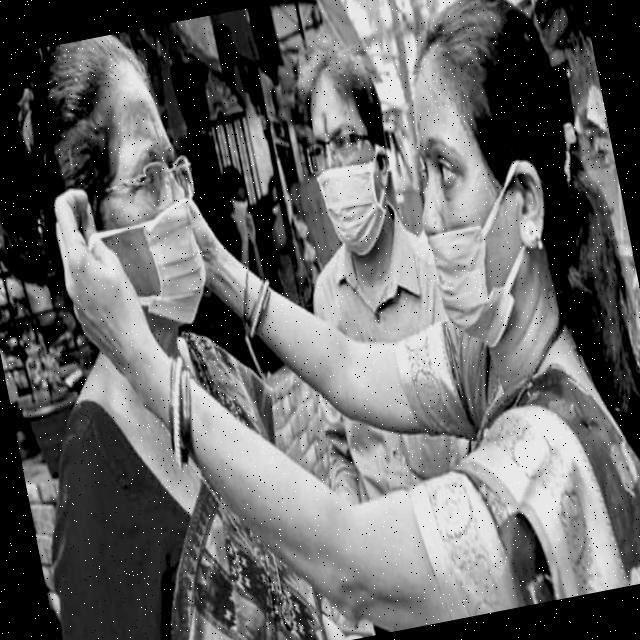mask: (136, 210, 208, 322), (318, 173, 390, 250)
no_apron: (48, 192, 142, 354)
no_gloves: (450, 5, 531, 146), (43, 29, 103, 170), (289, 62, 369, 96)
no_hairnet: (414, 213, 532, 326)
